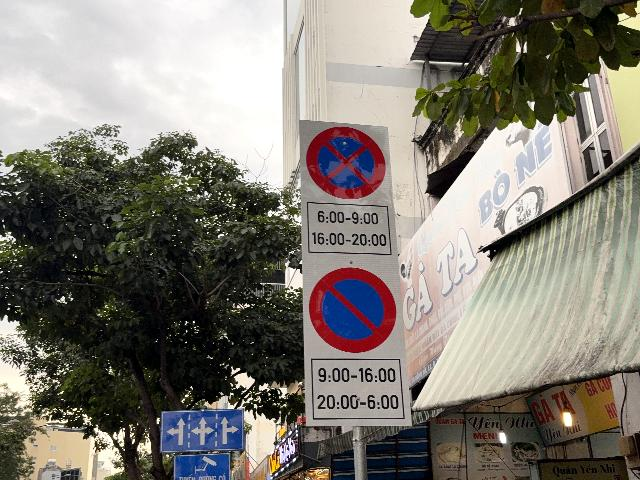cam-do-xe: (310, 267, 397, 353)
cam-dung-va-do-xe: (306, 126, 387, 201)
